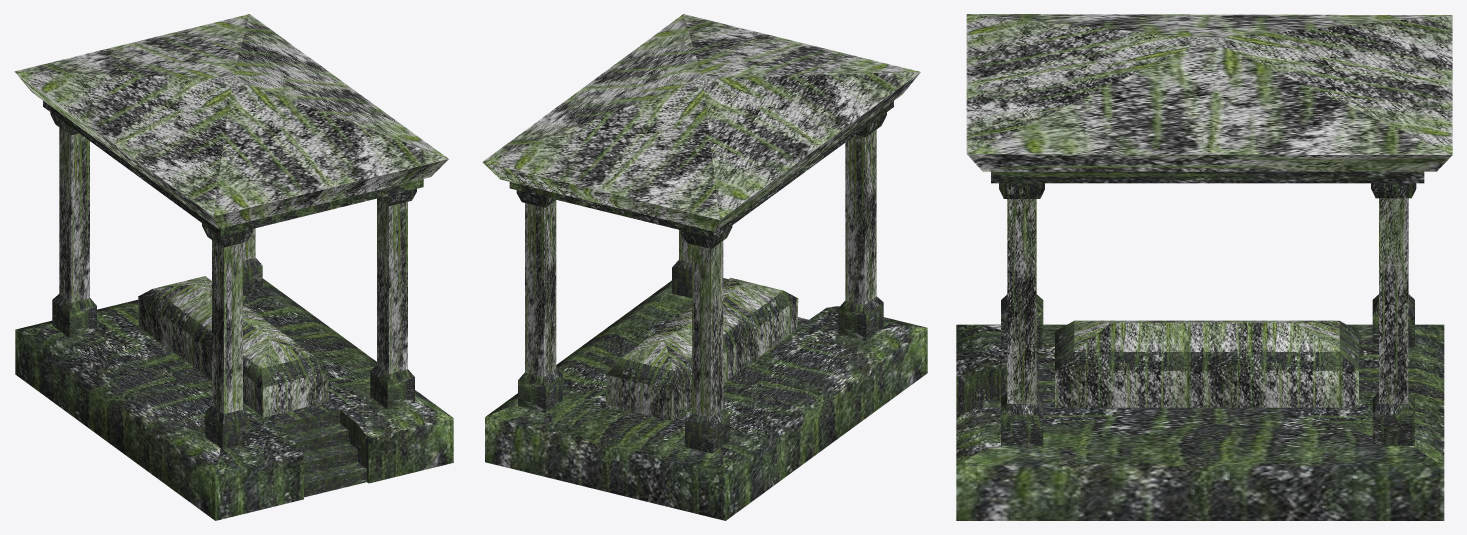
File: crypt2.fbx
3 views of the same model, side by side, from view 1: azimuth 30°, elevation 25°; view 2: azimuth 150°, elevation 25°; view 3: azimuth 270°, elevation 25° (orthographic). The views are drawn at different scales.
Parts seen in each view (by area): view 1: CryptBW:Roof_7, Base1, coffin, CryptBW:Pillar_05, CryptBW:Pillar_05.001, CryptBW:Pillar_05.002, CryptBW:Roof_8, CryptBW:Pillar_01_BottemA1, CryptBW:Pillar_01_BottemA1.002, CryptBW:Pillar_01_BottemA1.001, CryptBW:Pillar_01_BottemA1.003, CryptBW:Pillar_01_TopB1.001; view 2: CryptBW:Roof_7, Base1, coffin, CryptBW:Pillar_05.003, CryptBW:Pillar_05.002, CryptBW:Pillar_05.001, CryptBW:Roof_8, CryptBW:Pillar_01_BottemA1.001, CryptBW:Pillar_01_BottemA1.003, CryptBW:Pillar_01_BottemA1.002, CryptBW:Pillar_01_BottemA1, CryptBW:Pillar_01_TopB1.002; view 3: CryptBW:Roof_7, Base1, coffin, CryptBW:Pillar_05.003, CryptBW:Pillar_05, CryptBW:Roof_8, CryptBW:Pillar_01_BottemA1, CryptBW:Pillar_01_BottemA1.003, CryptBW:Pillar_01_BottemA1.001, CryptBW:Pillar_01_BottemA1.002, CryptBW:Pillar_01_TopB1, CryptBW:Pillar_01_TopB1.003.
Part boxes in pixels (left/top/right/bottom): CryptBW:Roof_7: left=14, top=14, right=448, bottom=228; Base1: left=15, top=278, right=453, bottom=520; coffin: left=138, top=276, right=328, bottom=417; CryptBW:Pillar_05: left=377, top=198, right=407, bottom=373; CryptBW:Pillar_05.001: left=212, top=240, right=242, bottom=413; CryptBW:Pillar_05.002: left=59, top=127, right=89, bottom=302; CryptBW:Roof_8: left=43, top=101, right=423, bottom=236; CryptBW:Pillar_01_BottemA1: left=370, top=365, right=414, bottom=409; CryptBW:Pillar_01_BottemA1.002: left=52, top=294, right=96, bottom=337; CryptBW:Pillar_01_BottemA1.001: left=205, top=405, right=249, bottom=449; CryptBW:Pillar_01_BottemA1.003: left=243, top=257, right=262, bottom=295; CryptBW:Pillar_01_TopB1.001: left=202, top=223, right=252, bottom=247; CryptBW:Roof_7: left=482, top=14, right=920, bottom=231; Base1: left=485, top=278, right=927, bottom=520; coffin: left=606, top=278, right=798, bottom=420; CryptBW:Pillar_05.003: left=525, top=200, right=556, bottom=376; CryptBW:Pillar_05.002: left=692, top=241, right=723, bottom=417; CryptBW:Pillar_05.001: left=845, top=130, right=876, bottom=304; CryptBW:Roof_8: left=509, top=101, right=893, bottom=238; CryptBW:Pillar_01_BottemA1.001: left=838, top=296, right=883, bottom=340; CryptBW:Pillar_01_BottemA1.003: left=518, top=368, right=562, bottom=412; CryptBW:Pillar_01_BottemA1.002: left=685, top=409, right=729, bottom=453; CryptBW:Pillar_01_BottemA1: left=672, top=260, right=691, bottom=298; CryptBW:Pillar_01_TopB1.002: left=682, top=225, right=732, bottom=248; CryptBW:Roof_7: left=966, top=14, right=1452, bottom=171; Base1: left=956, top=324, right=1444, bottom=520; coffin: left=1055, top=320, right=1358, bottom=407; CryptBW:Pillar_05.003: left=1379, top=198, right=1408, bottom=403; CryptBW:Pillar_05: left=1007, top=199, right=1036, bottom=403; CryptBW:Roof_8: left=991, top=171, right=1424, bottom=183; CryptBW:Pillar_01_BottemA1: left=1001, top=392, right=1043, bottom=445; CryptBW:Pillar_01_BottemA1.003: left=1372, top=392, right=1414, bottom=445; CryptBW:Pillar_01_BottemA1.001: left=1001, top=294, right=1043, bottom=347; CryptBW:Pillar_01_BottemA1.002: left=1372, top=294, right=1414, bottom=347; CryptBW:Pillar_01_TopB1: left=999, top=183, right=1044, bottom=198; CryptBW:Pillar_01_TopB1.003: left=1371, top=183, right=1416, bottom=198.
Size of the model in its own units: 977 by 1323 by 1446.
Materials: 1 (1 with a texture image).
